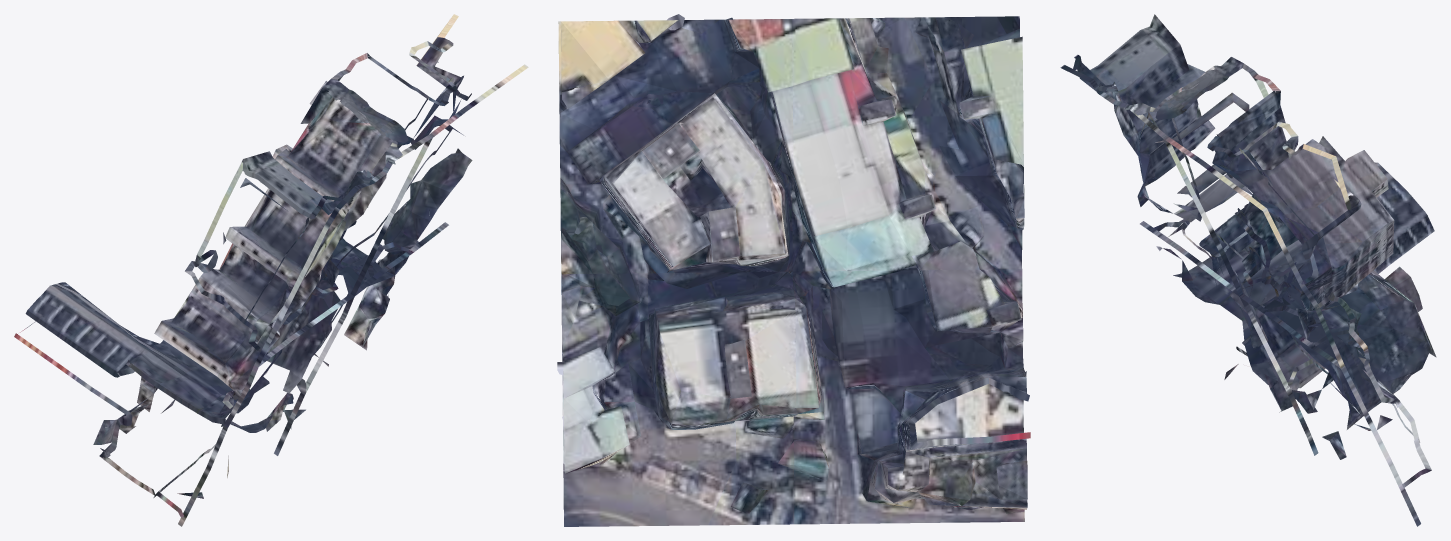
3 views of the same model, side by side, from view 1: azimuth 30°, elevation 25°; view 2: azimuth 150°, elevation 25°; view 3: azimuth 270°, elevation 25° (orthographic). The views are drawn at different scales.
Size of the model in its own units: 93.79 by 78.24 by 66.34.
Materials: 2 (2 with a texture image).
